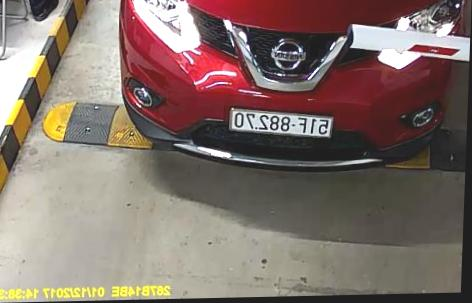License_Plate: (226, 103, 337, 143)
